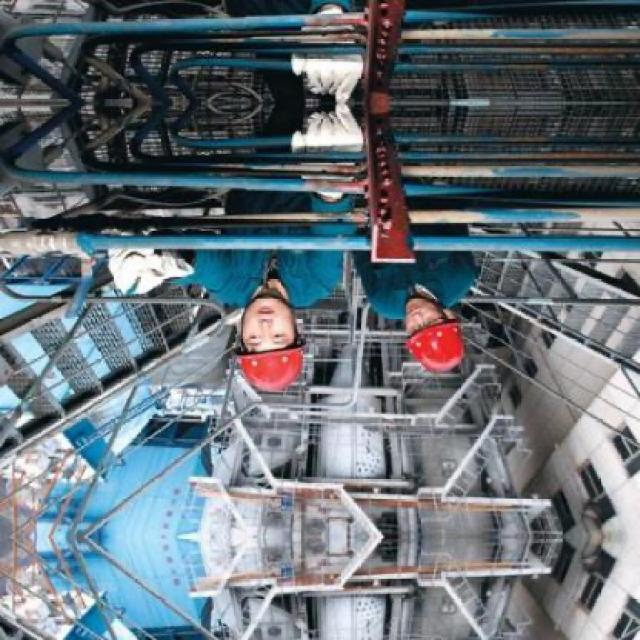con casco: (202, 283, 312, 407), (383, 285, 465, 403)
